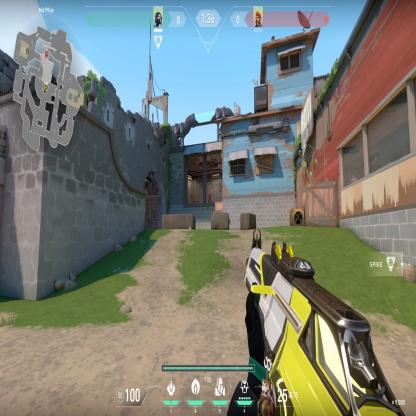enemy: (208, 186, 212, 203)
